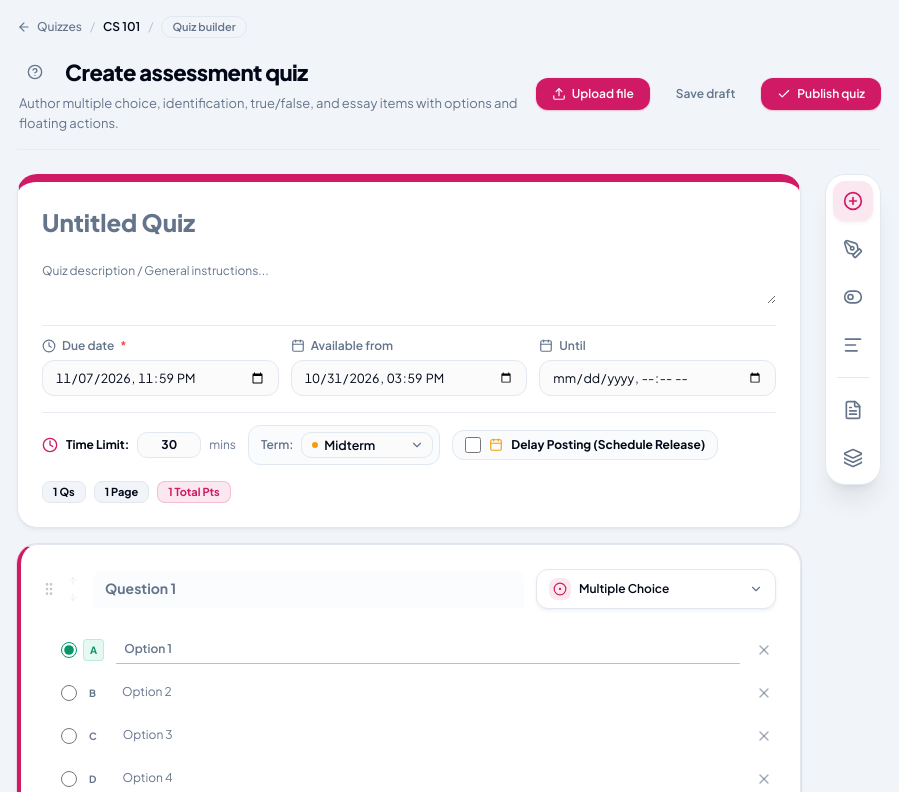
Scenario: CreateQuizPage publish loading › publish button shows loading while the request is in flight
This screenshot has width=899, height=792.
Type "Quiz 1" into the field with placeholder "Untitled Quiz".
click(409, 226); type("Quiz 1")  # box x1=42 y1=206 x2=776 y2=245
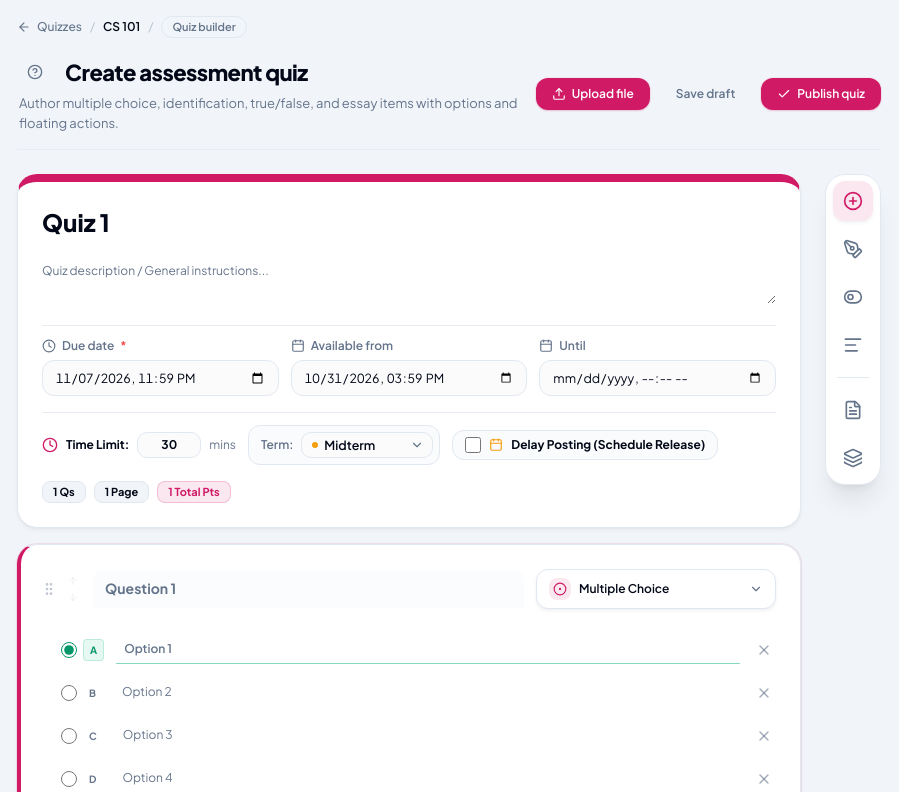
Type "What is 2+2?" into the field with placeholder "Question 1".
click(308, 589); type("What is 2+2?")  # box x1=93 y1=570 x2=524 y2=608
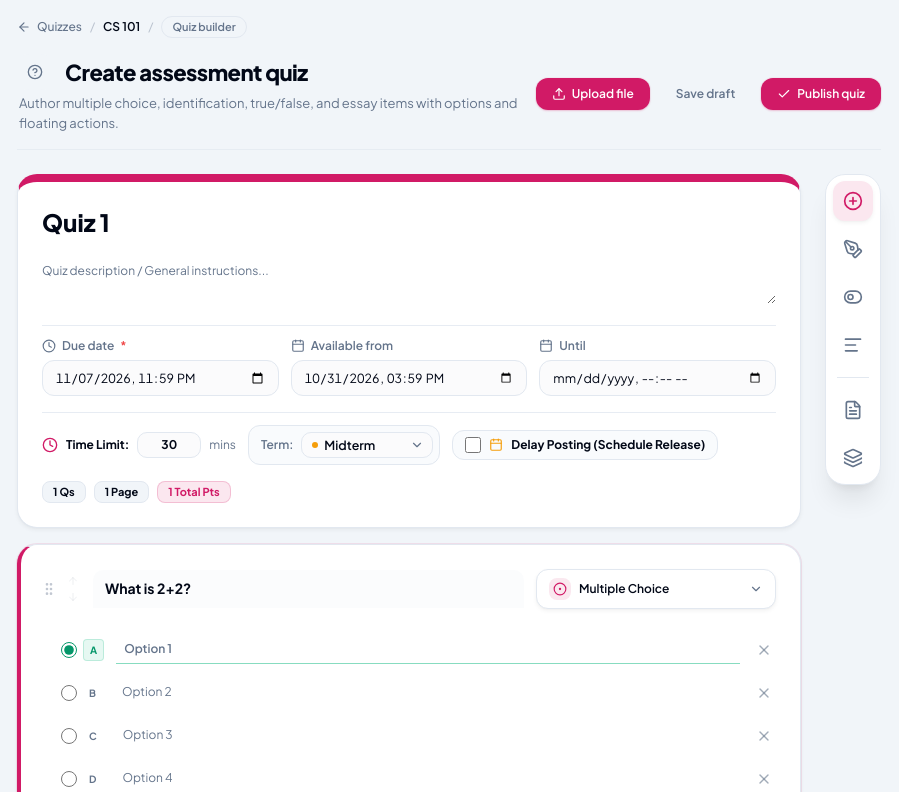
Click the button "Publish quiz".
click(821, 94)  # box x1=761 y1=78 x2=881 y2=110
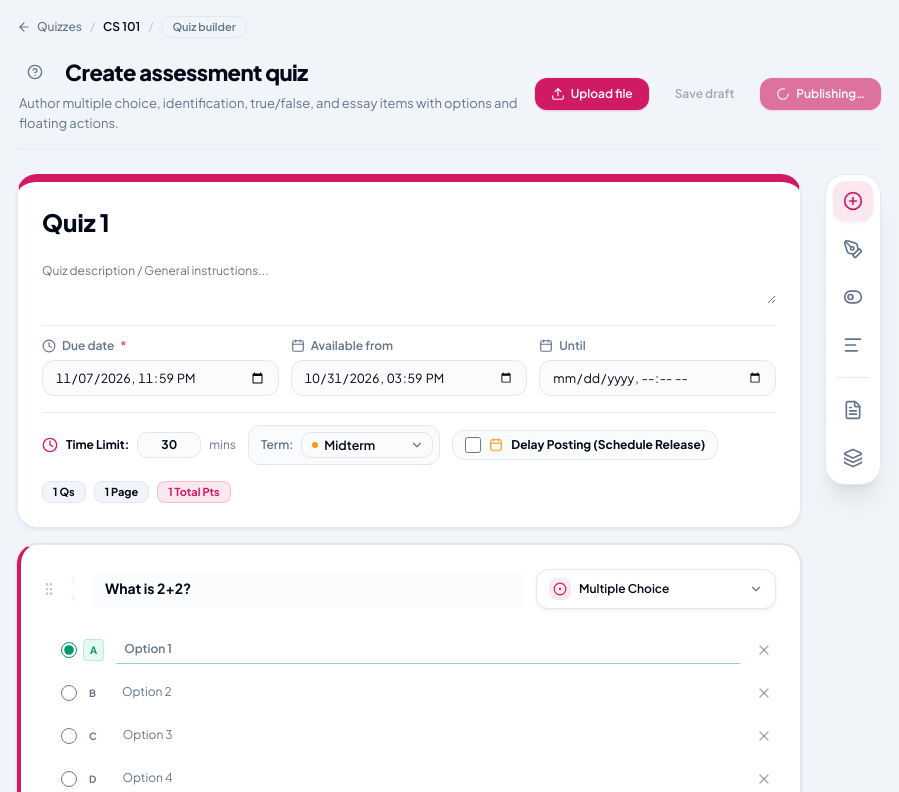
Now the text "Publishing…" is shown, box x1=796 y1=86 x2=865 y2=102
